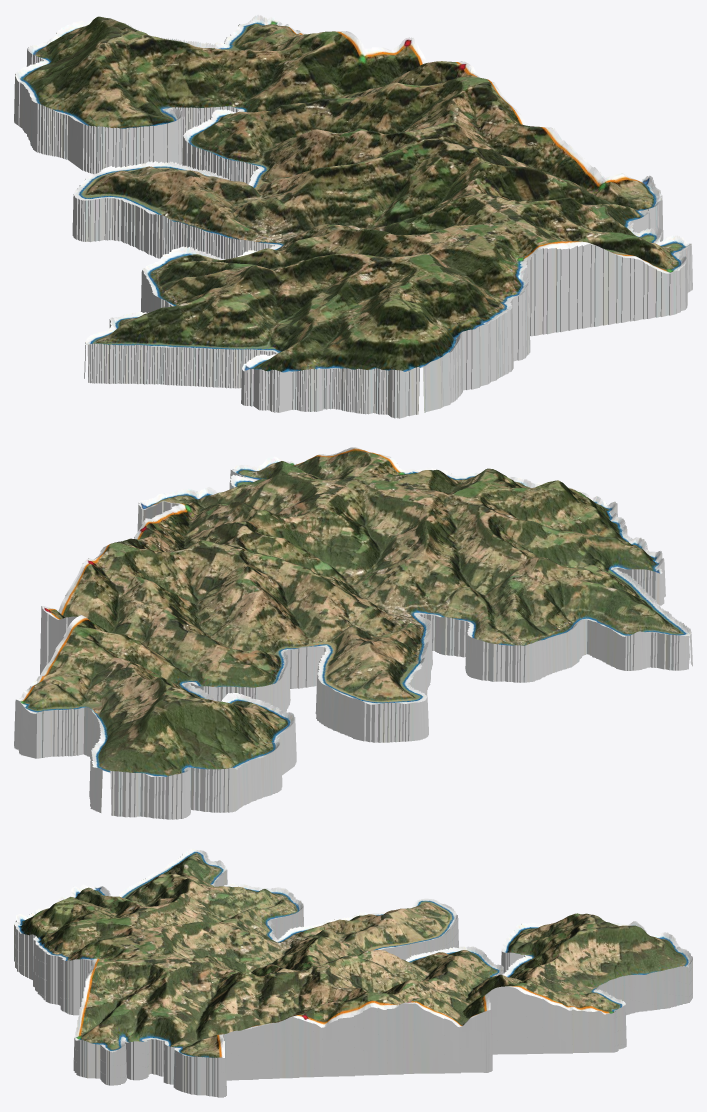
3 views of the same model, one above another, from view 1: azimuth 30°, elevation 25°; view 2: azimuth 150°, elevation 25°; view 3: azimuth 270°, elevation 25° (orthographic). The views are drawn at different scales.
Bounding box in the file's own units: 1 × 0.1534 × 1.3.
Materials: 1 (1 with a texture image).
